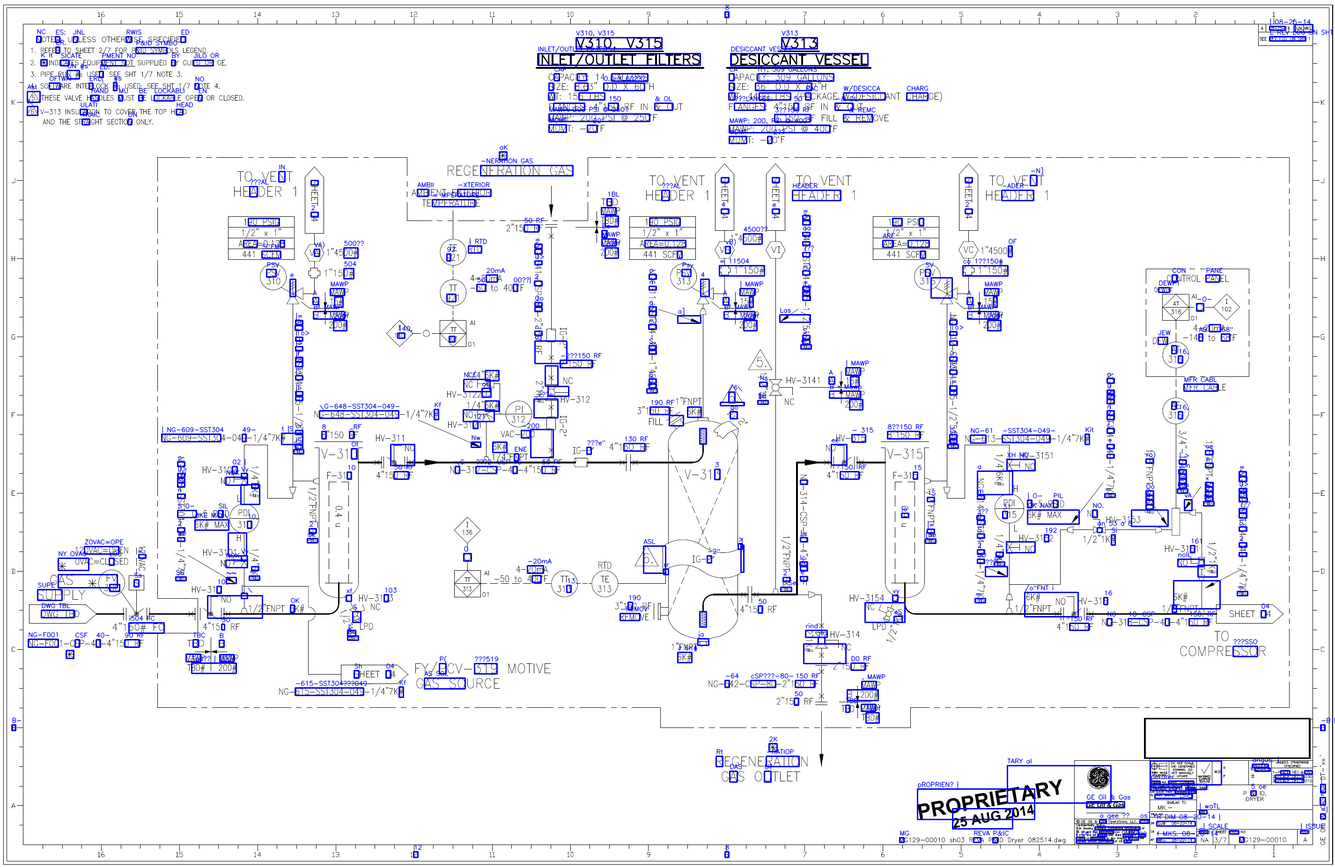Compressor: (1062, 604, 1085, 622), (1188, 507, 1198, 518), (239, 591, 249, 601), (942, 485, 951, 496), (239, 607, 249, 616), (288, 485, 298, 494), (698, 307, 708, 316), (771, 587, 781, 596), (1154, 525, 1163, 535), (1196, 573, 1206, 582), (312, 477, 321, 486), (807, 590, 816, 599), (1004, 593, 1014, 601), (1066, 525, 1074, 535), (546, 455, 555, 463), (1005, 607, 1014, 615), (482, 455, 490, 463), (1198, 607, 1206, 614)
Instrumento: (993, 492, 1025, 525), (437, 319, 468, 350), (453, 569, 483, 599), (590, 569, 620, 598), (550, 569, 579, 598), (439, 238, 467, 266), (505, 399, 532, 428), (439, 279, 467, 306), (1004, 539, 1014, 556)
Outro: (1160, 293, 1191, 322), (453, 514, 481, 545), (1161, 397, 1190, 426), (1160, 341, 1190, 369), (385, 320, 414, 348), (1212, 293, 1241, 321), (302, 242, 326, 264), (764, 239, 786, 260), (957, 239, 979, 260), (713, 240, 736, 259), (545, 414, 558, 433), (545, 327, 558, 345), (307, 265, 322, 280), (573, 457, 590, 469), (717, 263, 732, 276), (960, 264, 976, 276)
Tanque: (656, 411, 745, 647)
Vaso: (879, 446, 932, 601), (313, 445, 365, 601)
Válvula: (125, 573, 148, 622), (228, 502, 261, 534), (284, 277, 306, 309), (939, 276, 959, 307), (694, 277, 715, 306), (383, 452, 406, 470), (832, 453, 856, 470), (199, 605, 223, 621), (544, 382, 559, 402), (480, 377, 497, 394), (231, 554, 249, 570), (481, 407, 497, 425), (768, 378, 783, 397), (814, 631, 829, 650), (232, 471, 250, 486), (348, 604, 362, 623), (881, 606, 895, 623), (1004, 457, 1015, 473), (1092, 525, 1108, 534), (1196, 556, 1206, 570)
